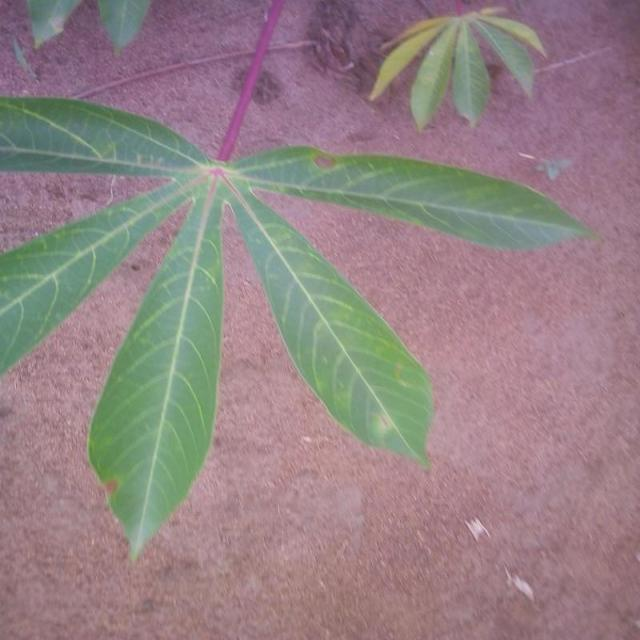cassava leaf: (1, 2, 598, 563), (226, 173, 436, 469), (86, 171, 228, 563)
